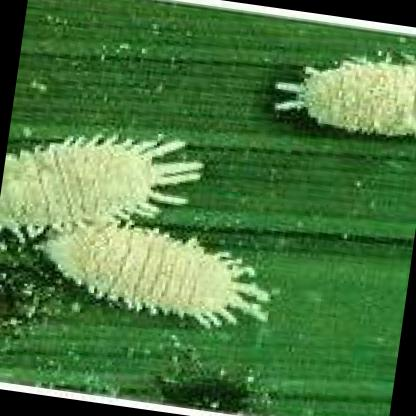mealy bug: (43, 226, 268, 326), (4, 137, 199, 234), (300, 62, 416, 136)
